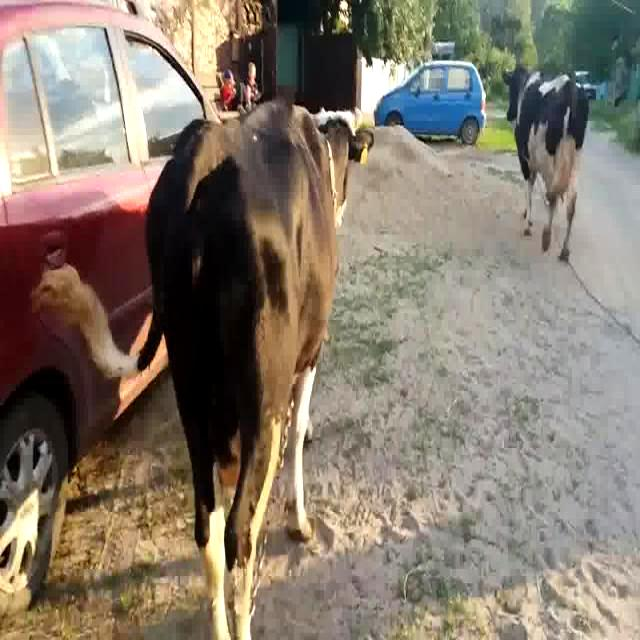COW: (32, 101, 374, 640), (508, 66, 589, 260)
